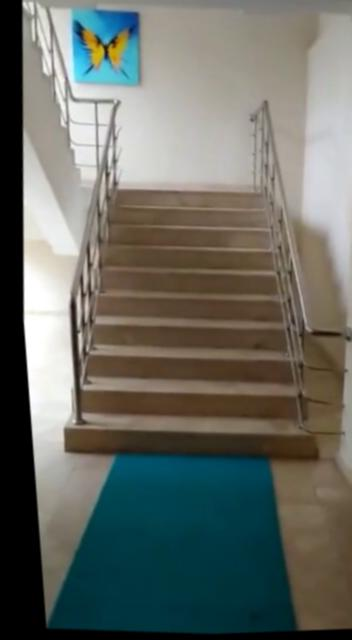Bench: (48, 174, 334, 473)
